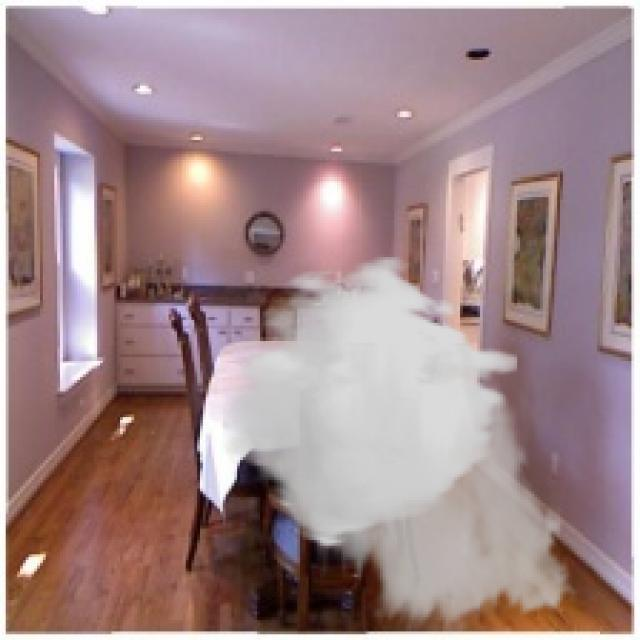Smoke: (223, 254, 586, 637)
